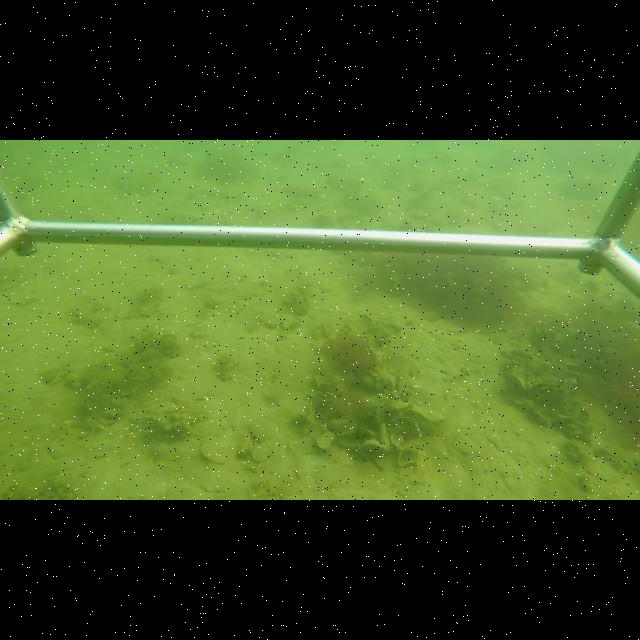Oyster-Closed: (410, 404, 447, 424), (398, 416, 422, 440), (379, 422, 395, 454), (529, 407, 552, 427)
